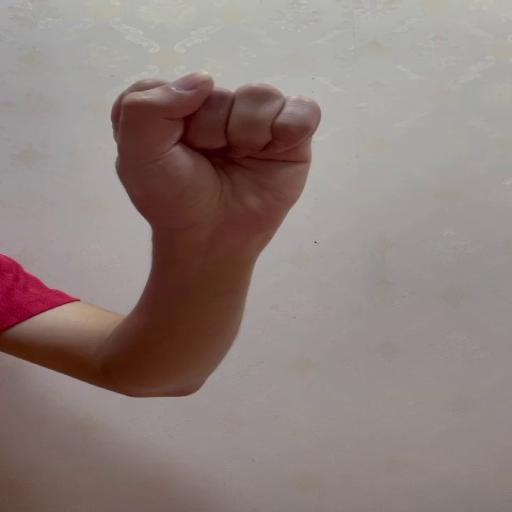fist: (108, 71, 324, 226)
